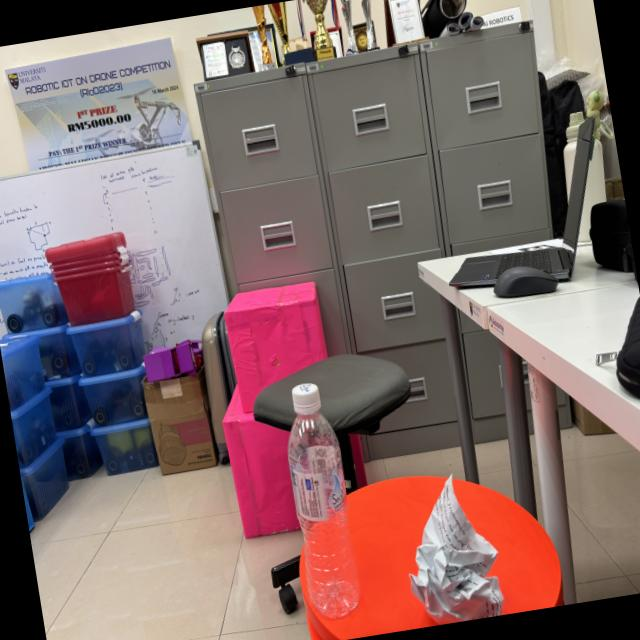crumpled_paper: (382, 459, 522, 630)
plastic_bottle: (266, 363, 382, 634)
